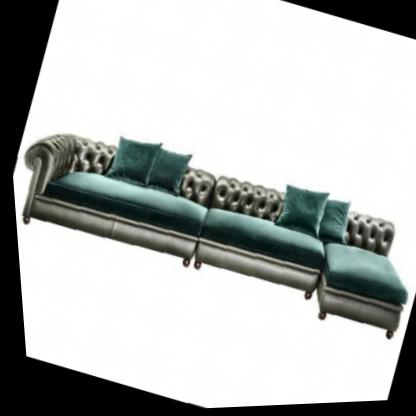Sofa: (11, 112, 416, 360)
